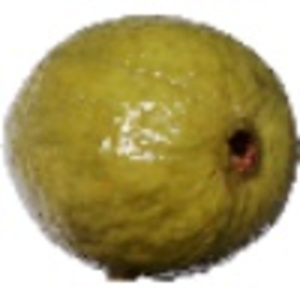goiaba: (3, 14, 299, 279)
